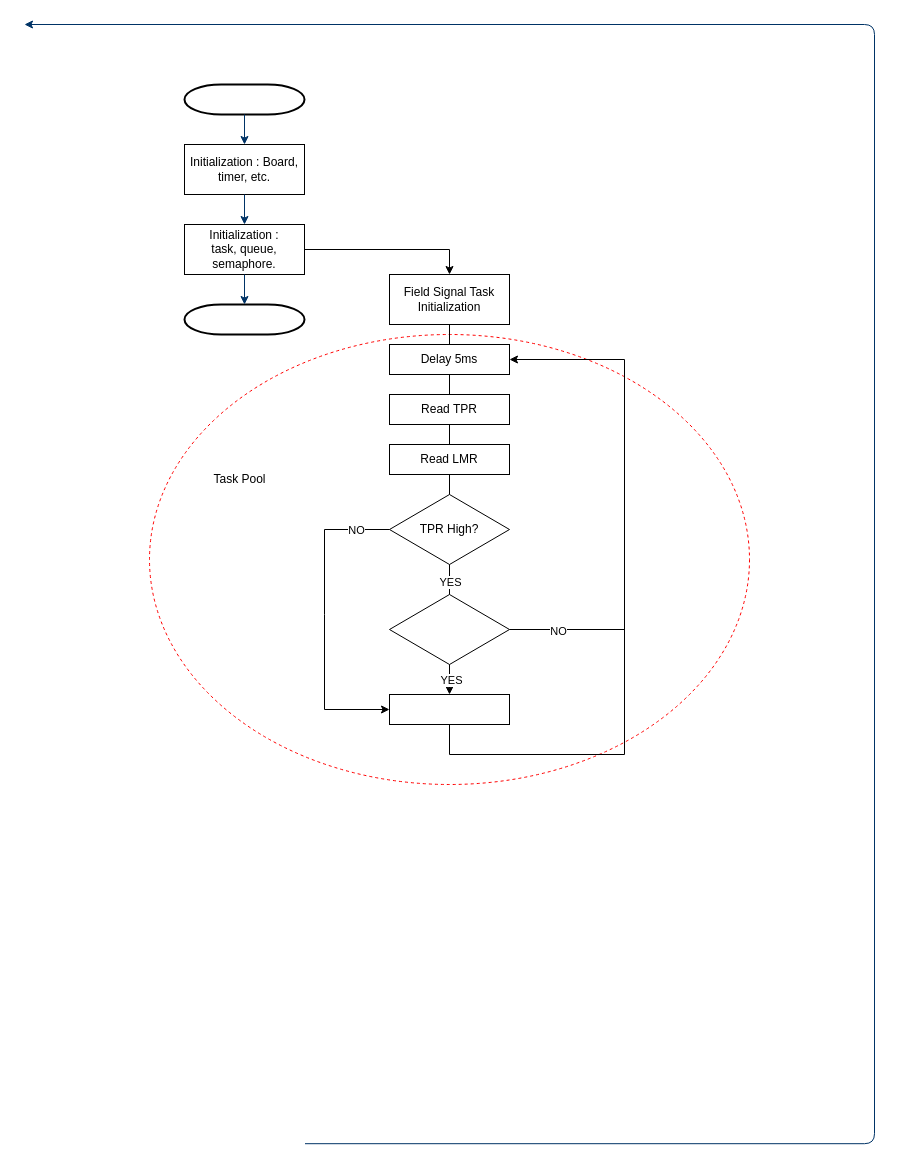
Some shapes in this 900 by 1170 pixel diagram are drawn without their labels. The shapes that lost their labels are listed below. From the top down, each one's centre as x and y in pixels, then its label:
At point (244, 99): "start".
At point (244, 319): "end".
At point (449, 629): "Relay Changed?".
At point (449, 709): "Output Con Relay".
